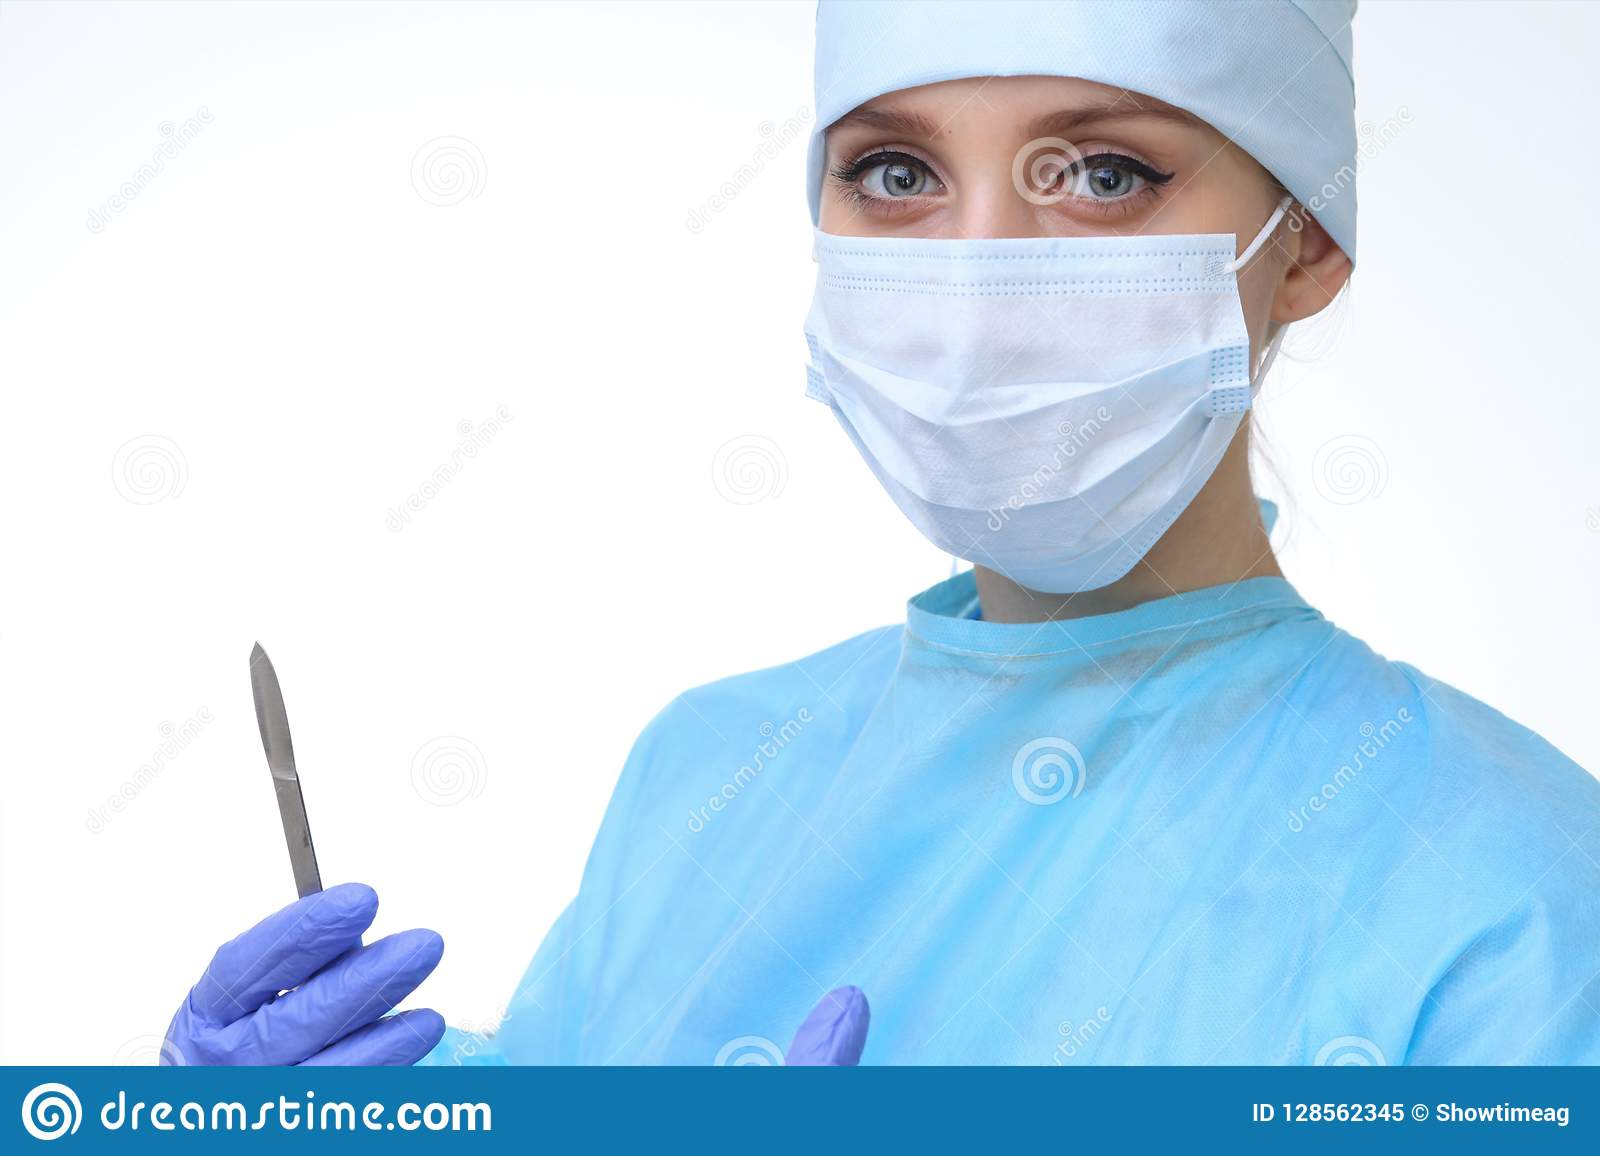mask: (789, 232, 1257, 561)
